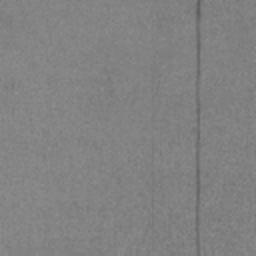Scratches: (195, 0, 202, 256)
